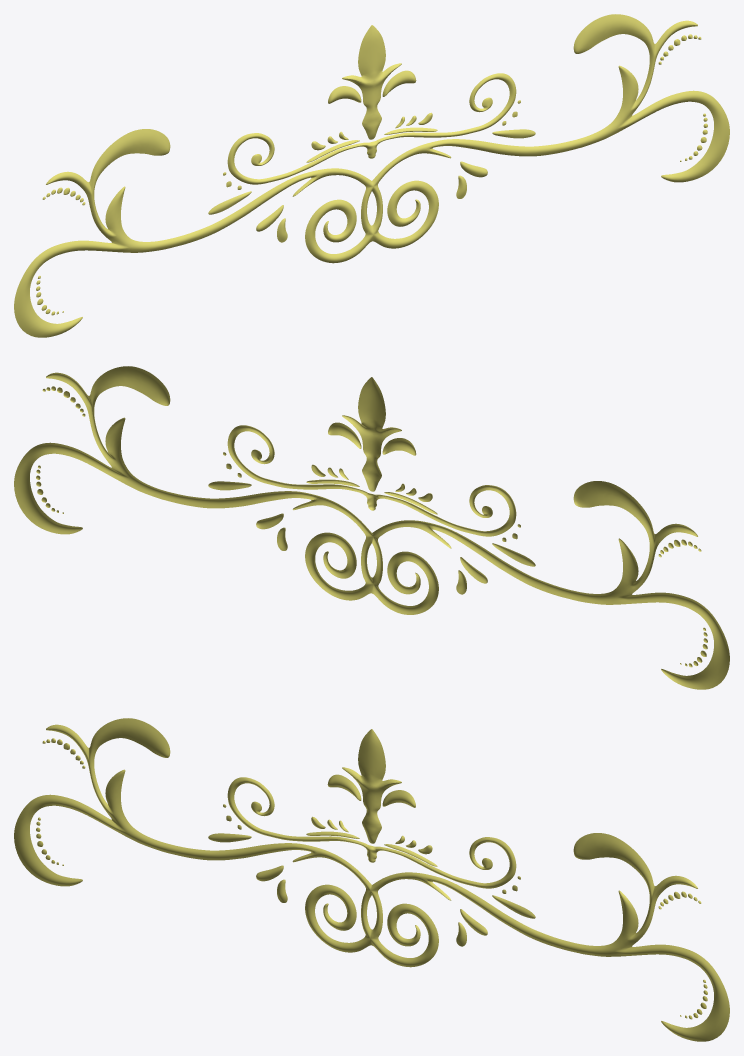
File: gate_fence_iron_gold_ornate_ornament.glb
The picture shows the model from 3 angles, top to bottom: view 1: azimuth 30°, elevation 25°; view 2: azimuth 150°, elevation 25°; view 3: azimuth 330°, elevation 25°; orthographic projection.
Visible parts, largest first — view 1: Plane_3; view 2: Plane_3; view 3: Plane_3.
Part boxes in pixels (<box>): Plane_3: <box>14,14,729,337</box>; Plane_3: <box>14,366,729,689</box>; Plane_3: <box>14,718,729,1041</box>.
Bounding box in the file's own units: 4.19 × 1.31 × 0.0251.
